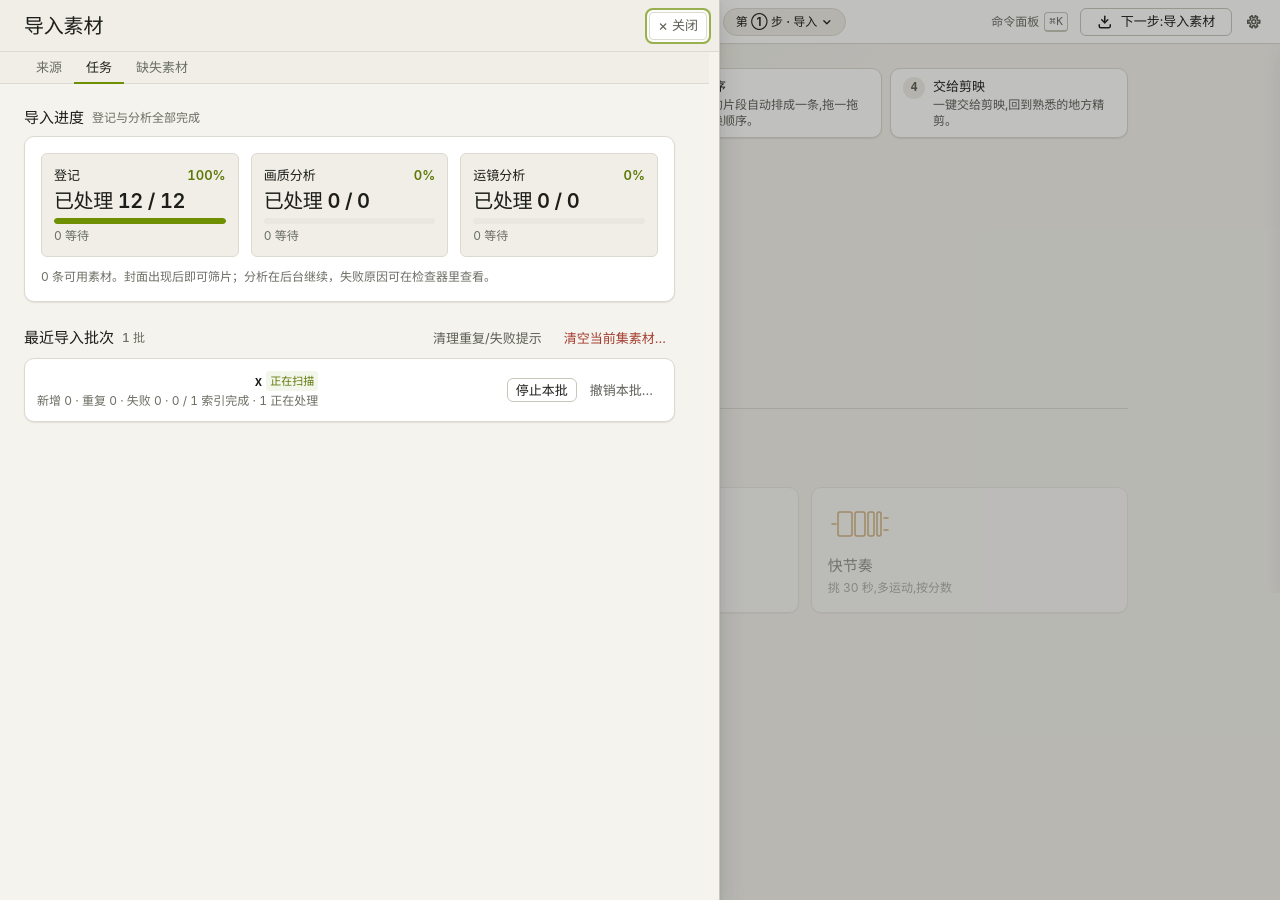
Test: 导入抽屉:原生内容(R9 Task 5) › 任务分页:「停止本批」调 cancelImportBatch,通知「已入库素材保留」
Step 1. Click the button "停止本批" → (542, 390), box top-left (507, 378), bottom-right (577, 402)
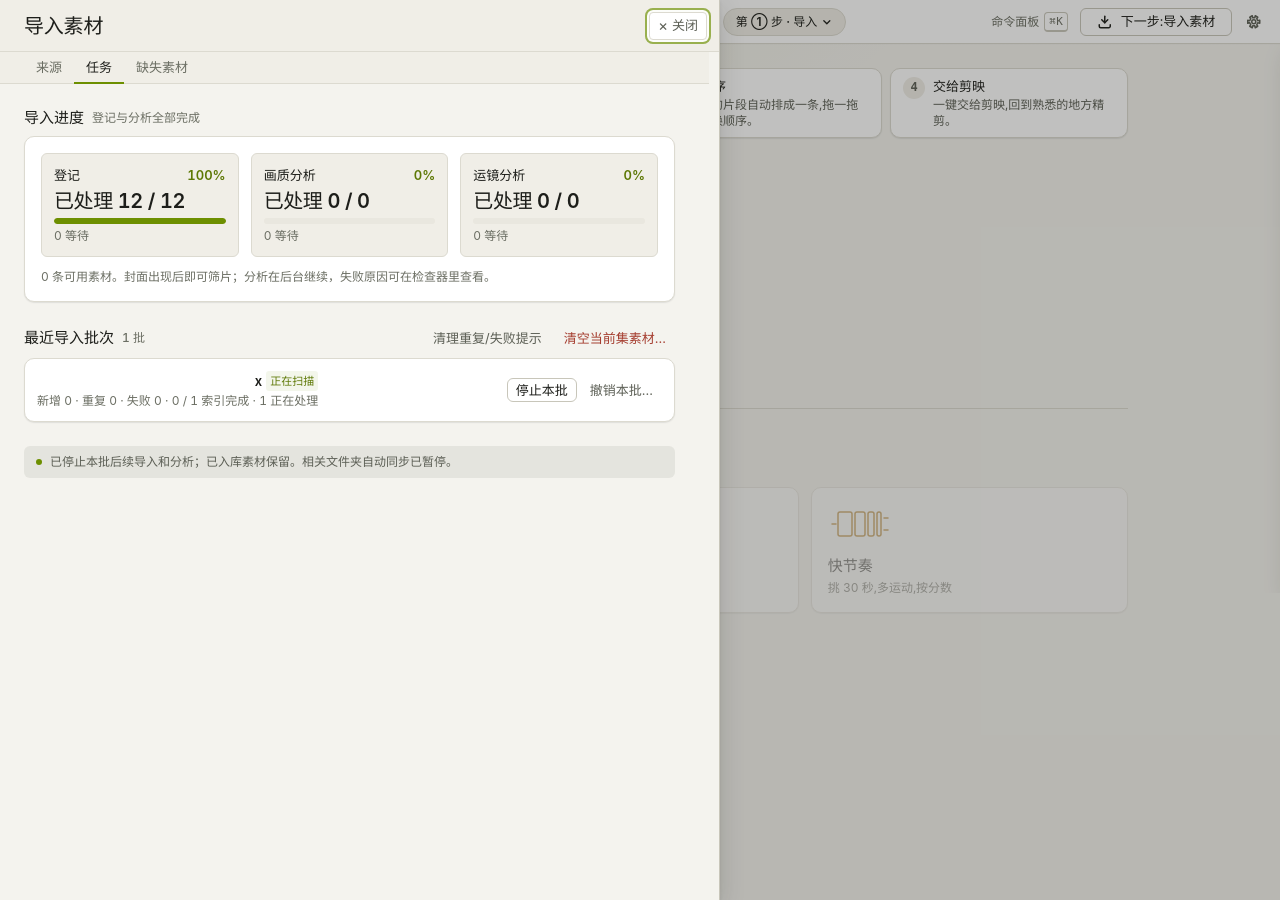
Result: the text "已停止本批后续导入和分析；已入库素材保留。相关文件夹自动同步已暂停。" is shown at top-left (24, 446), bottom-right (675, 478)
